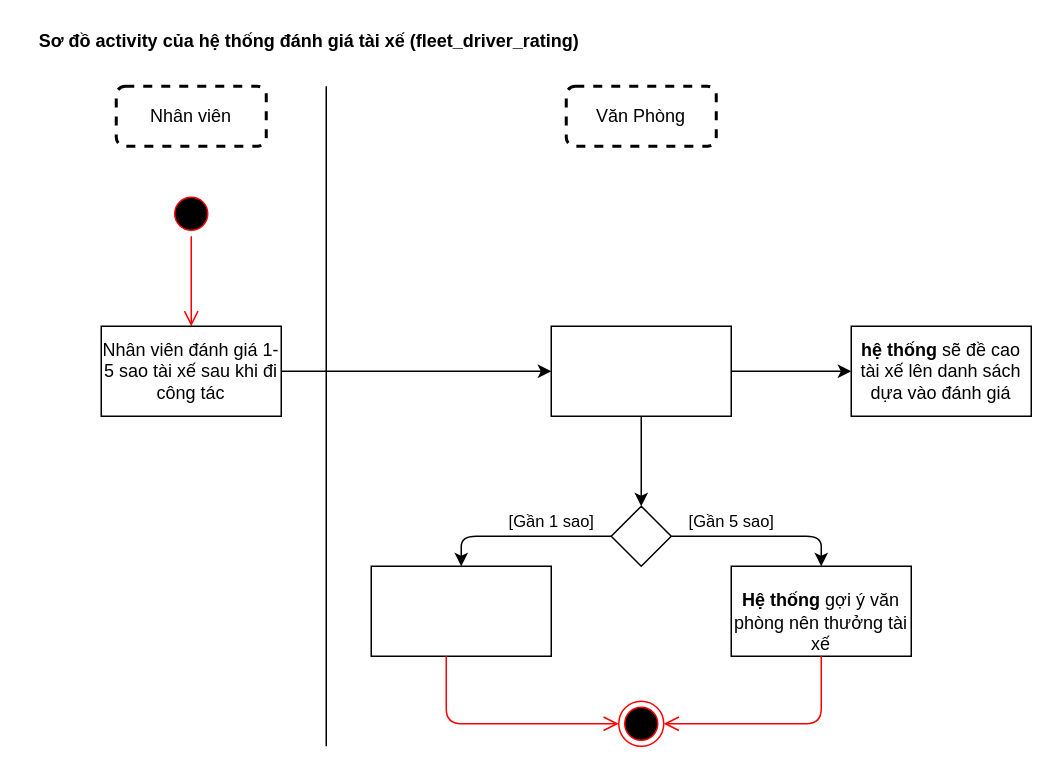
Image size: 1058x774. Some labels were removed from this diagram. Each missing label, with the centre of its shape:
Hệ thống gợi ý văn phòng nên phạt tài xế: the point at 460,610
Hệ thống sẽ tính trung bình điểm đánh giá của tài xế: the point at 640,370
